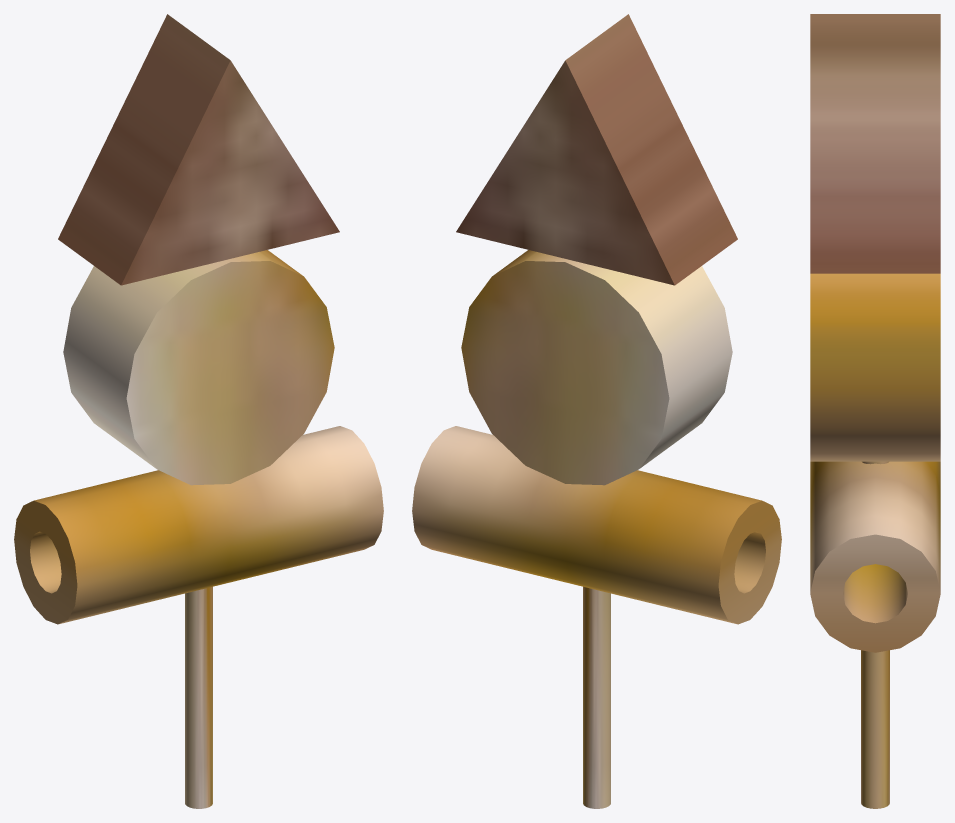
File: oden2.fbx
The picture shows the model from 3 angles, left to right: view 1: azimuth 30°, elevation 25°; view 2: azimuth 150°, elevation 25°; view 3: azimuth 270°, elevation 25°; orthographic projection. The views are drawn at different scales.
Parts seen in each view (by area): view 1: pPipe2; view 2: pPipe2; view 3: pPipe2.
Part boxes in pixels (bbox=[...]): pPipe2: bbox=[14, 14, 383, 808]; pPipe2: bbox=[412, 14, 781, 808]; pPipe2: bbox=[810, 14, 940, 808].
Size of the model in its own units: 1.12 by 2.67 by 0.4009.
